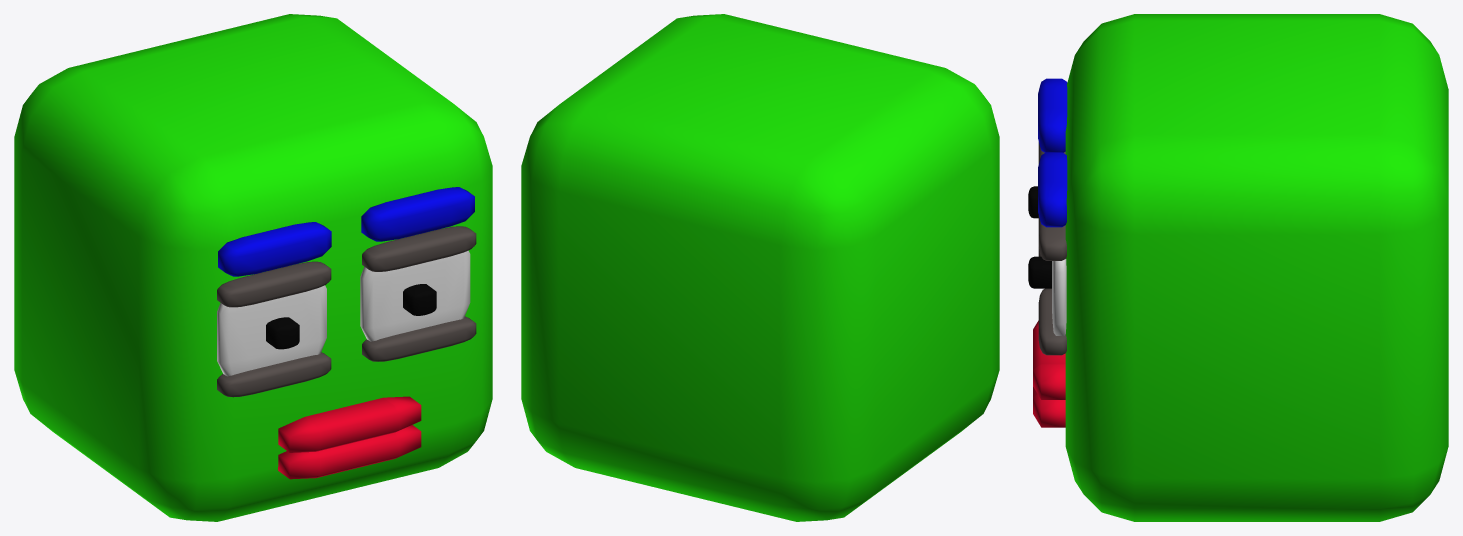
The model's file is kkkkkkkkk.glb.
3 renders of one model, left to right at view 1: azimuth 30°, elevation 25°; view 2: azimuth 150°, elevation 25°; view 3: azimuth 270°, elevation 25°, orthographic. The views are drawn at different scales.
Visible parts, largest first — view 1: Cube.004; view 2: Cube.004; view 3: Cube.004.
Boxes of the visible parts, x1,y1,x2,y2 form: Cube.004: (14, 14, 492, 521); Cube.004: (521, 14, 999, 521); Cube.004: (1028, 14, 1448, 521).
Bounding box in the file's own units: 1 × 1 × 1.
